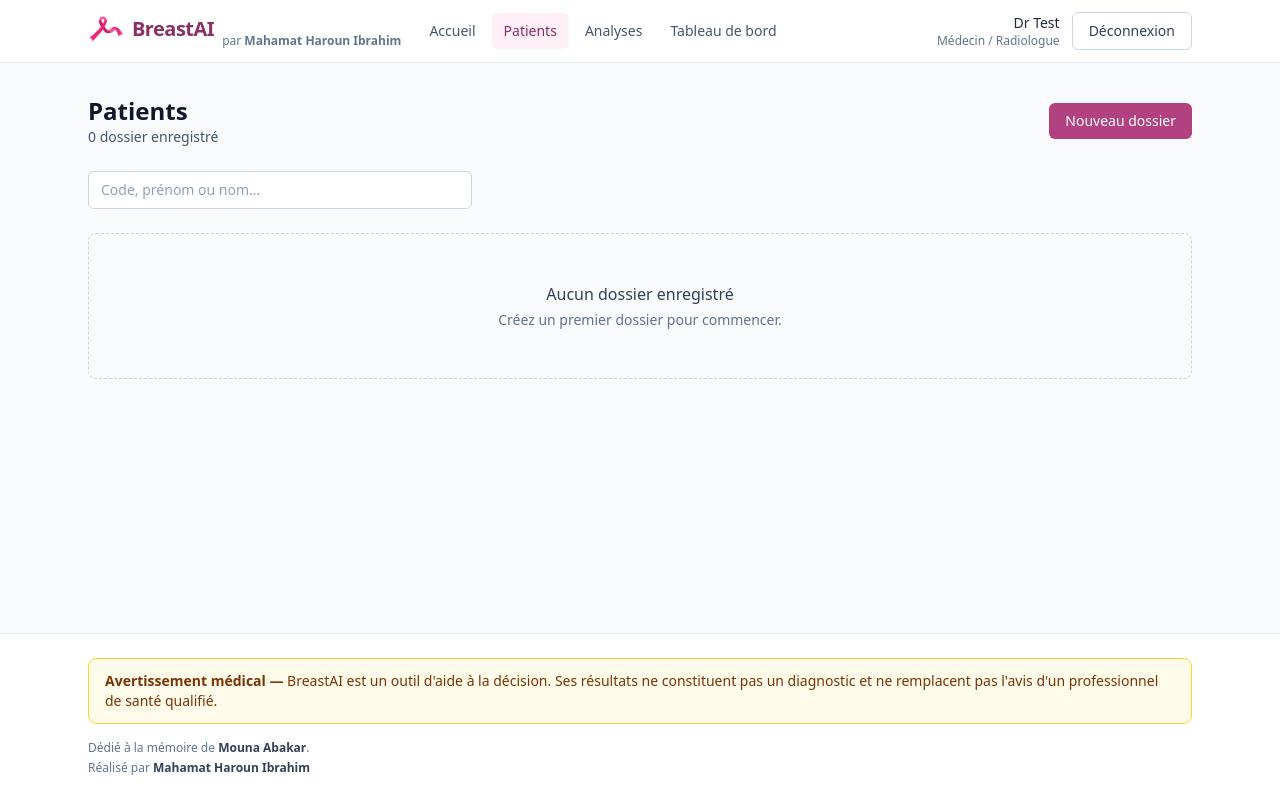
Recherche › explique une recherche sans résultat
The width and height of the screenshot is (1280, 800).
Expected: the text "Aucun dossier enregistré" is shown, [546,283,734,305]
In the search field named "Rechercher un patient": (280, 190) [88,171,472,209], type "introuvable"
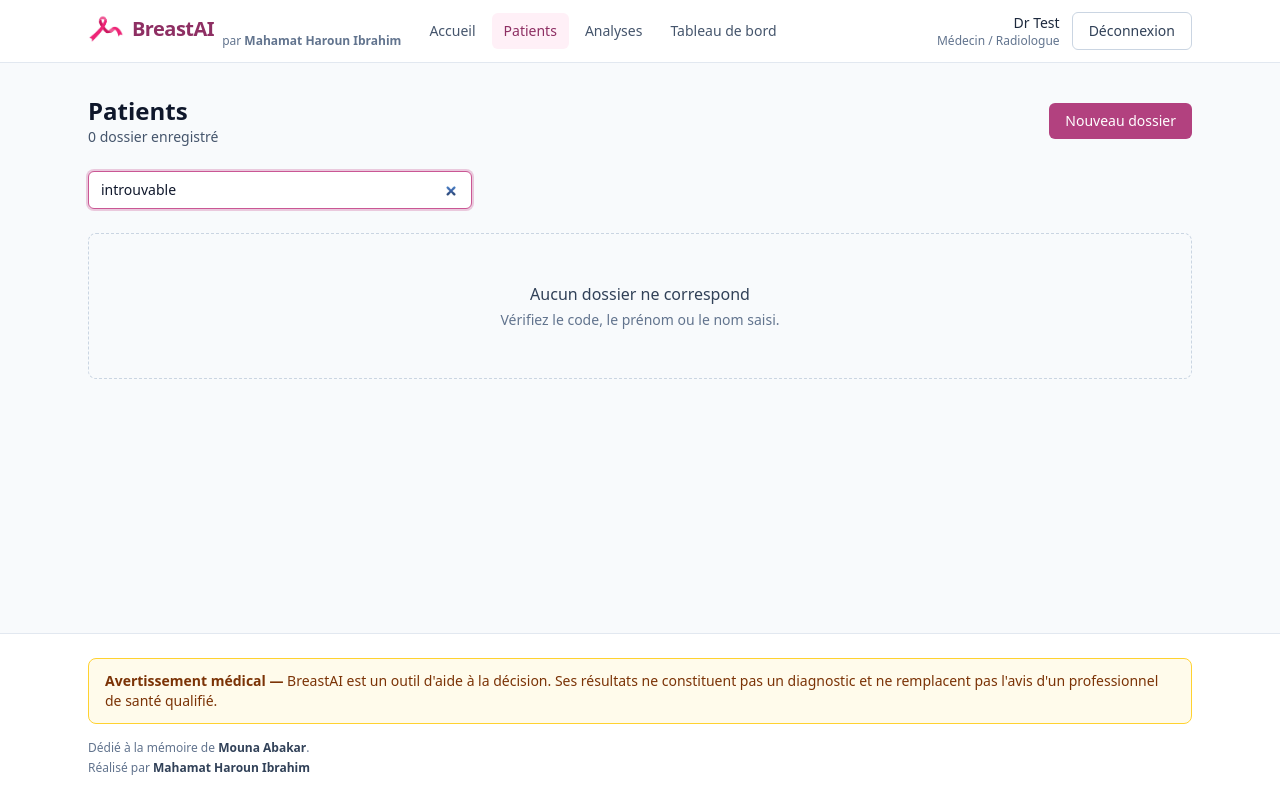
Expected: the text "Aucun dossier ne correspond" is shown, [530,283,750,305]
